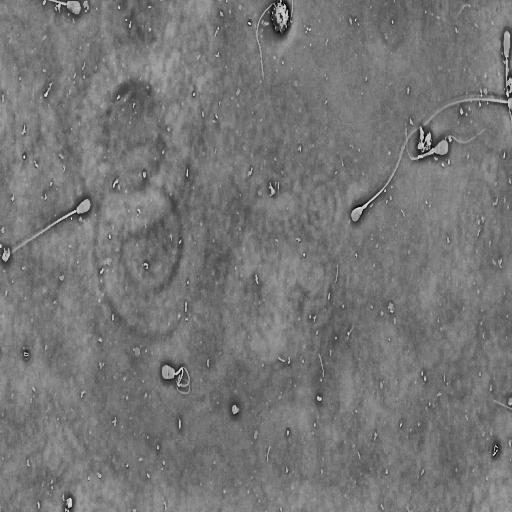coiled-tail: (175, 362, 190, 389)
dirt-particles: (268, 0, 292, 38), (415, 123, 434, 154), (1, 244, 11, 265), (63, 495, 74, 512), (230, 402, 240, 417)
folded-tail: (418, 129, 486, 160), (176, 375, 190, 394), (177, 368, 189, 387), (178, 366, 190, 382), (183, 379, 188, 382)
loose-tail: (255, 0, 282, 80)
normal: (348, 119, 429, 224), (11, 194, 93, 258), (416, 124, 490, 160), (161, 361, 192, 398), (502, 27, 512, 126)
proximal-droplet: (362, 204, 367, 209)
